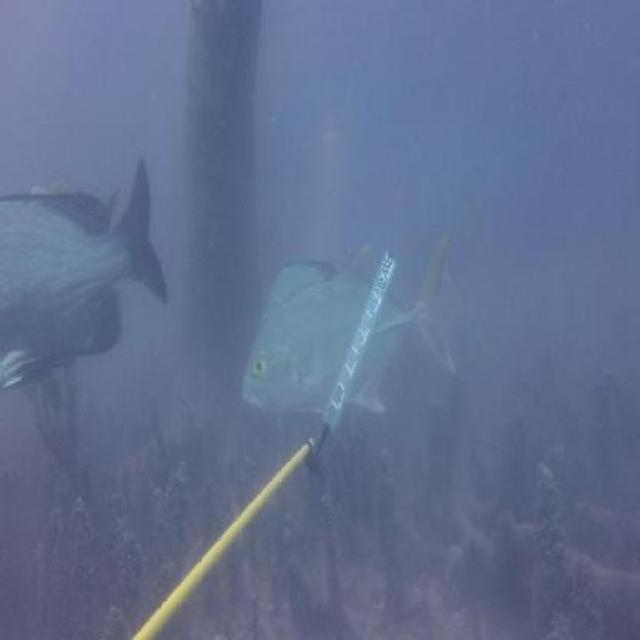Caranx: (242, 235, 460, 418)
acanthopagrus_palmaris: (0, 160, 169, 392), (258, 249, 340, 329)
